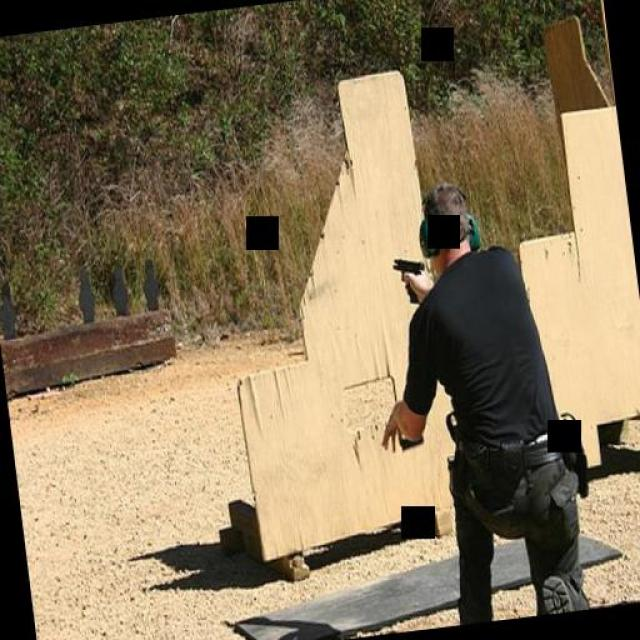gun: (389, 252, 429, 308)
